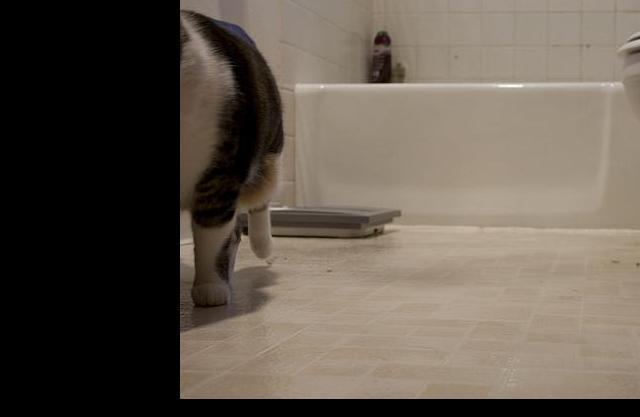Otro Obstaculo: (181, 7, 285, 311)
Sanitario: (604, 8, 640, 252)
